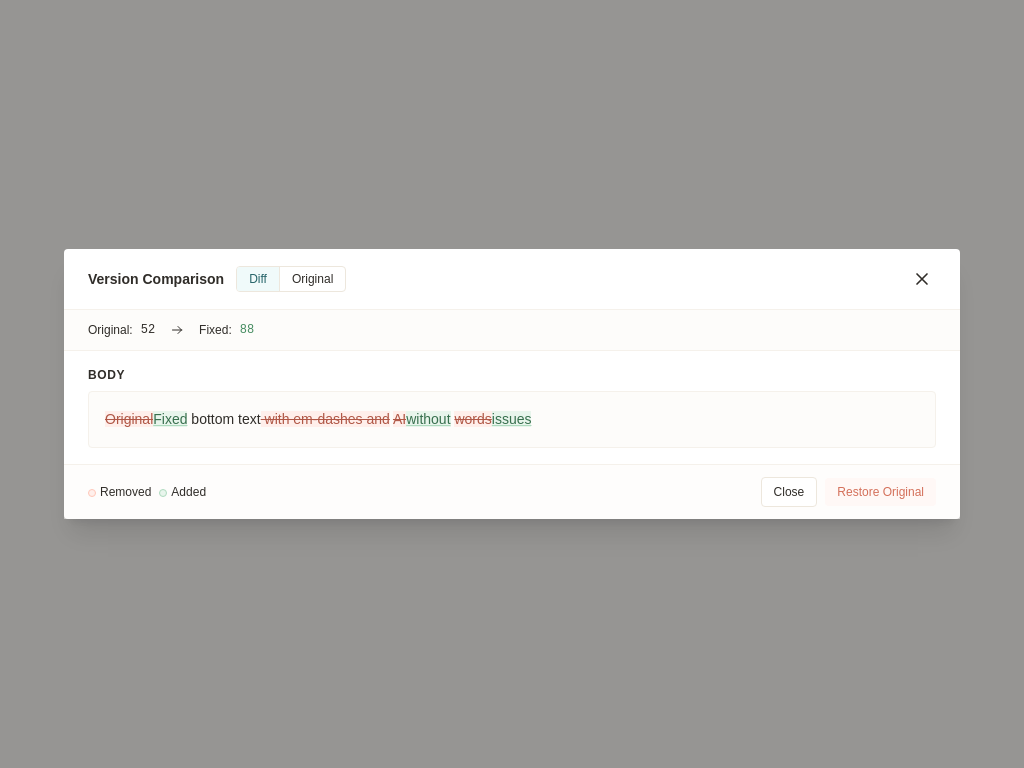
Scenario: VersionDiffModal › switches between diff and original modes
The tab button is the one inside the mode toggle
Click the tab "Original". click: (313, 279)
box: [280,267,345,291]
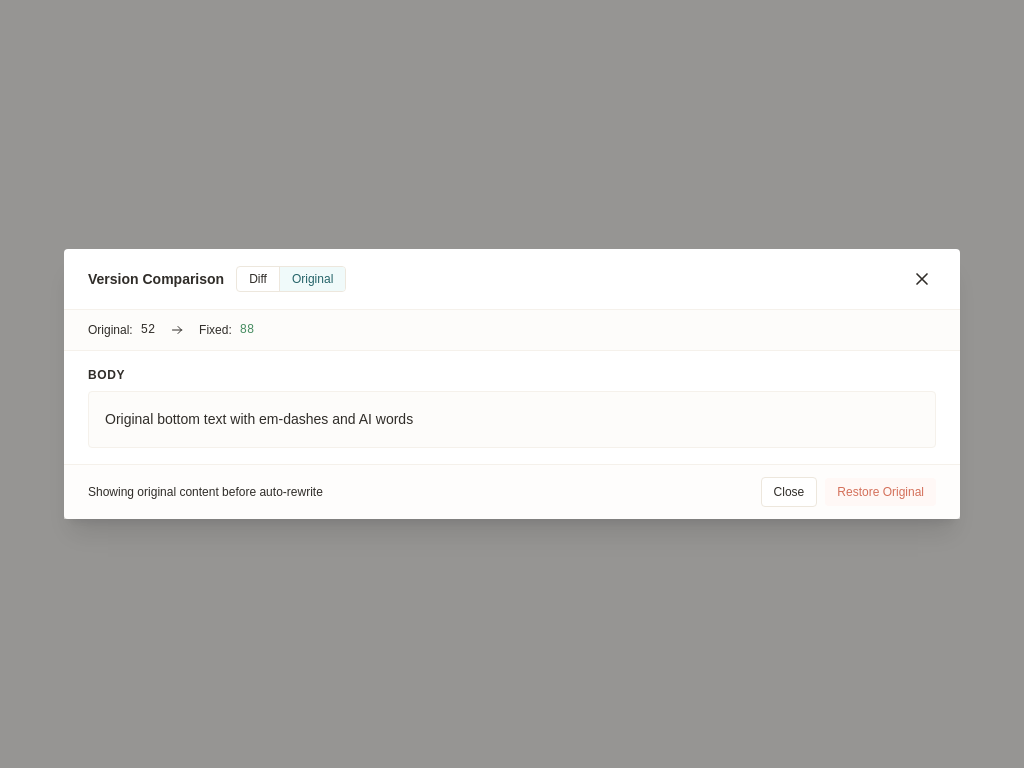
Expected: the text "Original bottom text with em-dashes and AI words" is shown, [105,411,413,427]
